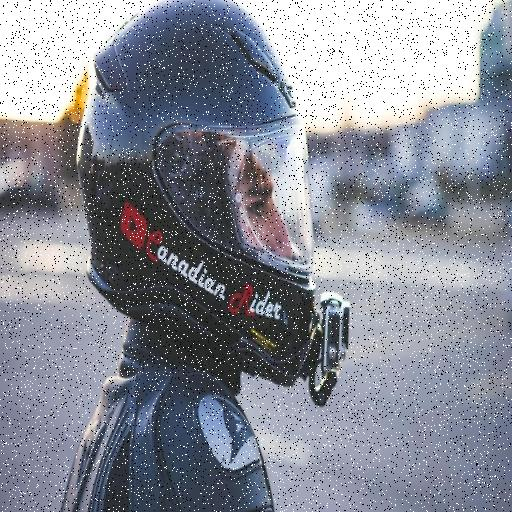Helmet: (66, 0, 353, 402)
